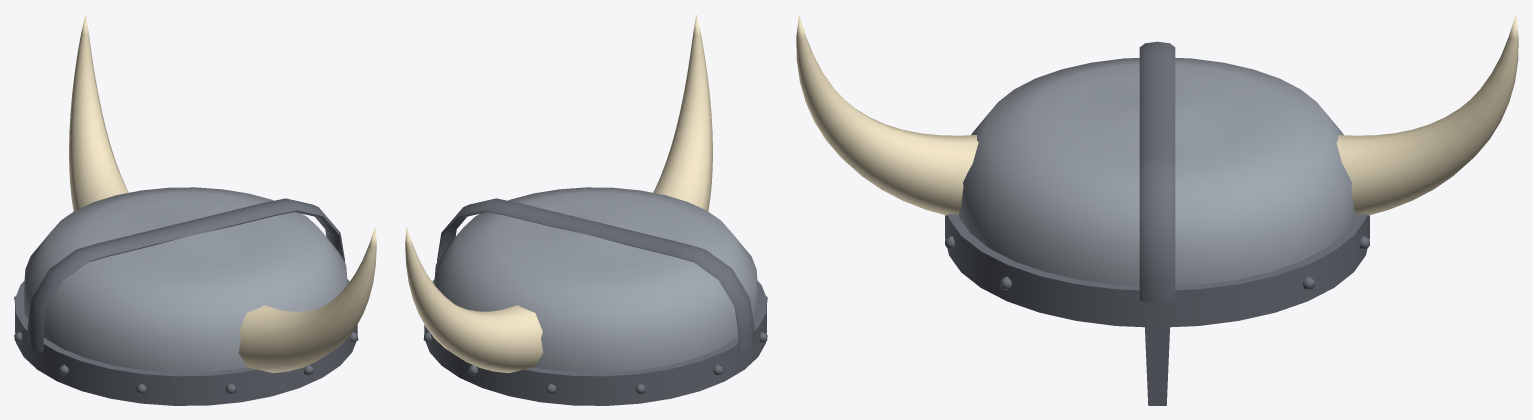
File: acc_viking.glb
3 renders of one model, left to right at view 1: azimuth 30°, elevation 25°; view 2: azimuth 150°, elevation 25°; view 3: azimuth 270°, elevation 25°, orthographic. The views are drawn at different scales.
Visible parts, largest first — view 1: VikingHelmet; view 2: VikingHelmet; view 3: VikingHelmet.
Part boxes in pixels (x1=…): VikingHelmet: x1=14, y1=15, x2=376, y2=405; VikingHelmet: x1=405, y1=15, x2=767, y2=405; VikingHelmet: x1=796, y1=14, x2=1518, y2=405.
Size of the model in its own units: 0.524 by 0.435 by 0.8566.
